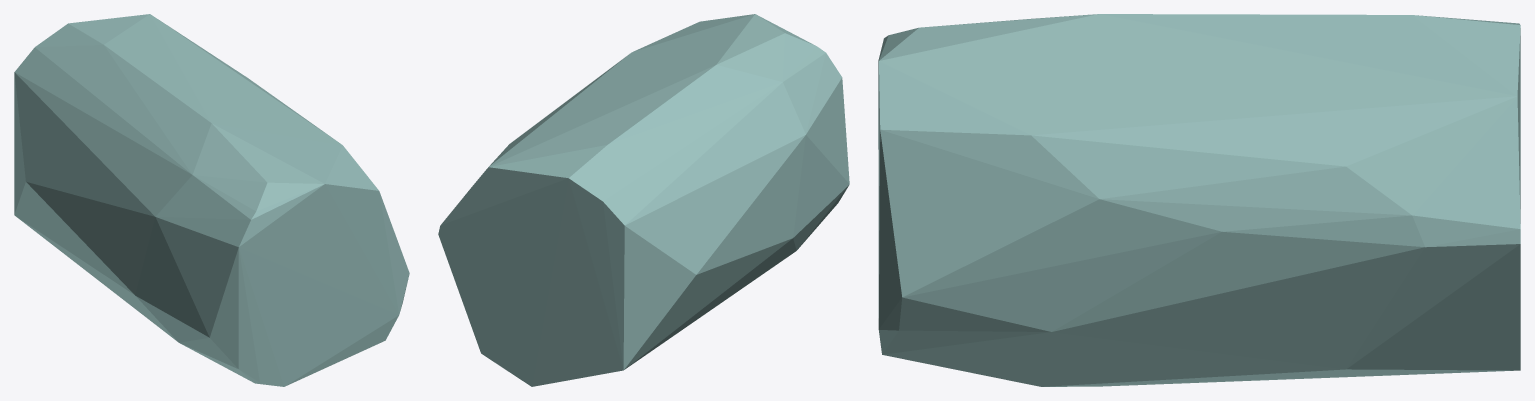
File: container_jar_glass_gold_a01.glb
The picture shows the model from 3 angles, left to right: view 1: azimuth 30°, elevation 25°; view 2: azimuth 150°, elevation 25°; view 3: azimuth 270°, elevation 25°; orthographic projection. The views are drawn at different scales.
Visible parts, largest first — view 1: geometry_0; view 2: geometry_0; view 3: geometry_0.
Part boxes in pixels (<box>): geometry_0: <box>14,14,409,386</box>; geometry_0: <box>438,14,849,386</box>; geometry_0: <box>878,14,1520,386</box>.
Bounding box in the file's own units: 0.2767 × 0.2679 × 0.48.
